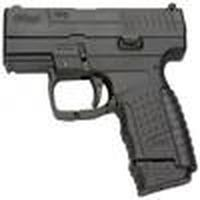gun: (3, 5, 200, 193)
